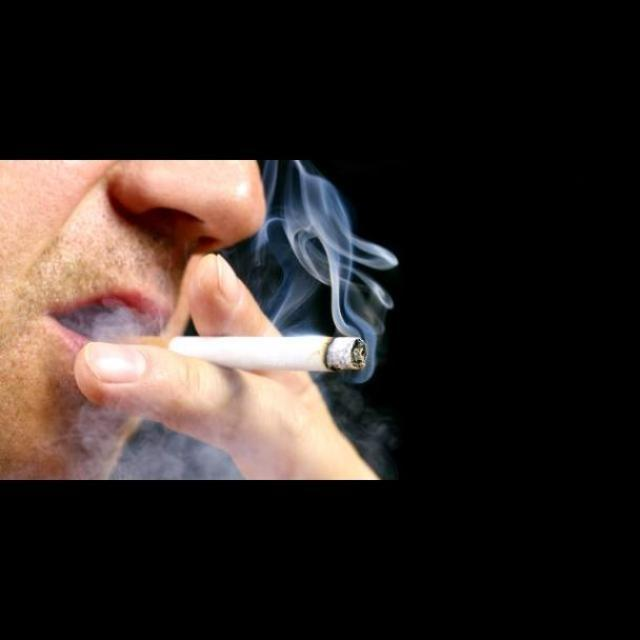rokok: (102, 325, 372, 377)
